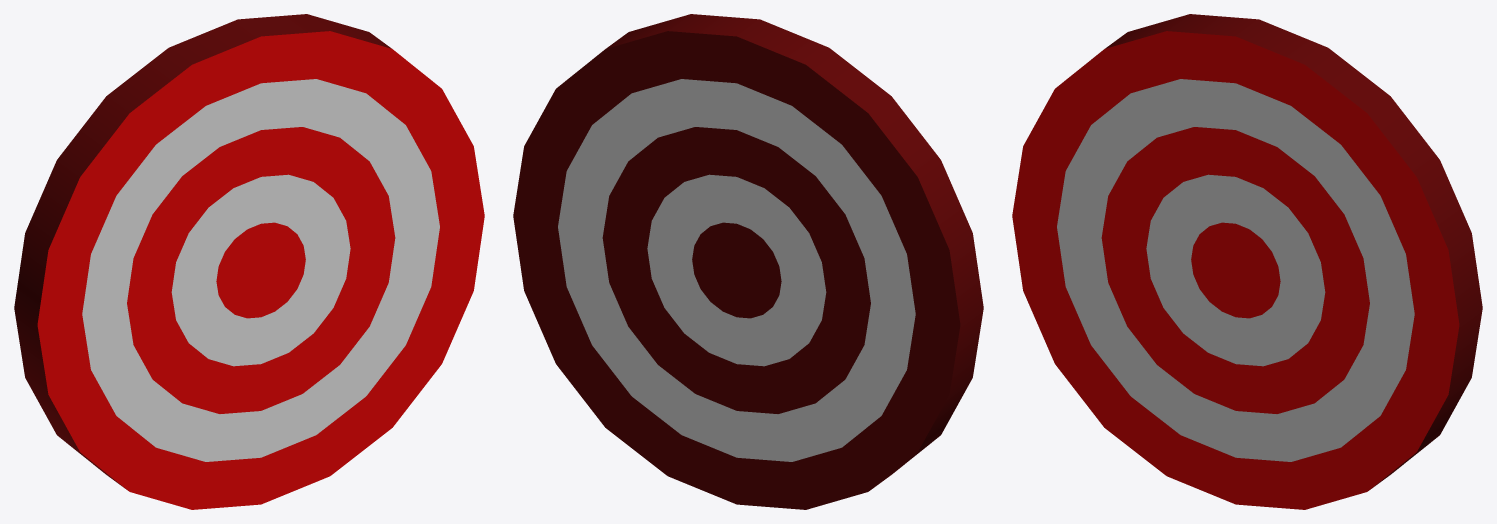
File: Scheibe.fbx
3 renders of one model, left to right at view 1: azimuth 30°, elevation 25°; view 2: azimuth 150°, elevation 25°; view 3: azimuth 330°, elevation 25°, orthographic.
Parts seen in each view (by area): view 1: pCylinder2; view 2: pCylinder2; view 3: pCylinder2.
Boxes of the visible parts, x1=… form: pCylinder2: x1=14, y1=14, x2=484, y2=509; pCylinder2: x1=513, y1=14, x2=983, y2=509; pCylinder2: x1=1012, y1=14, x2=1482, y2=509.
Bounding box in the file's own units: 1.25 × 1.25 × 0.1125.
